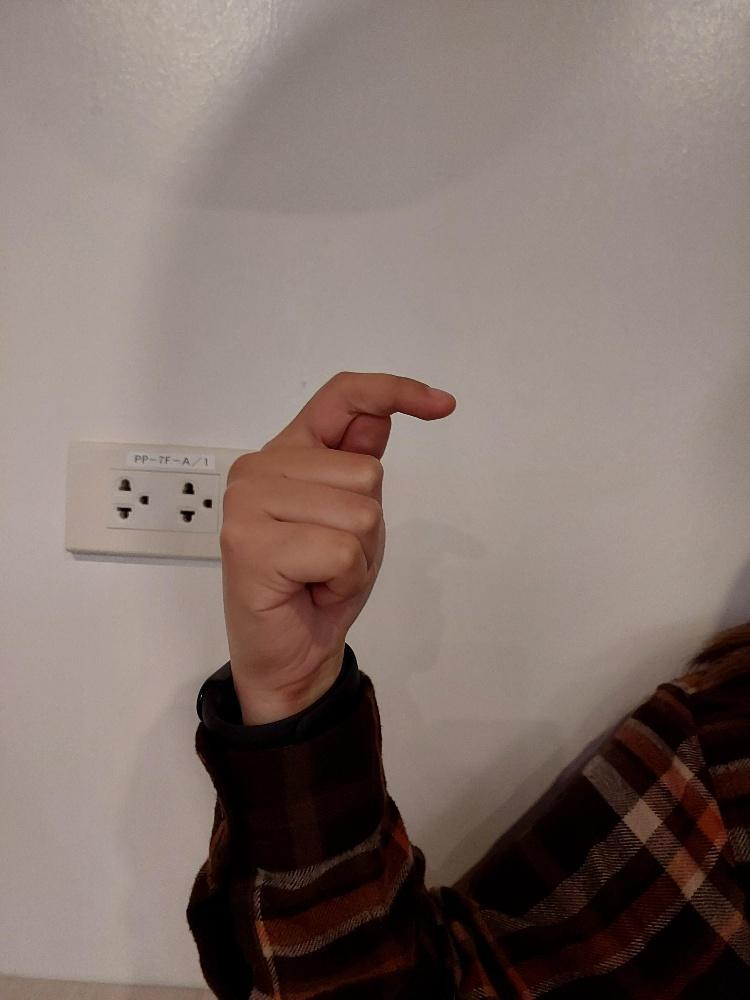t: (215, 366, 459, 696)
